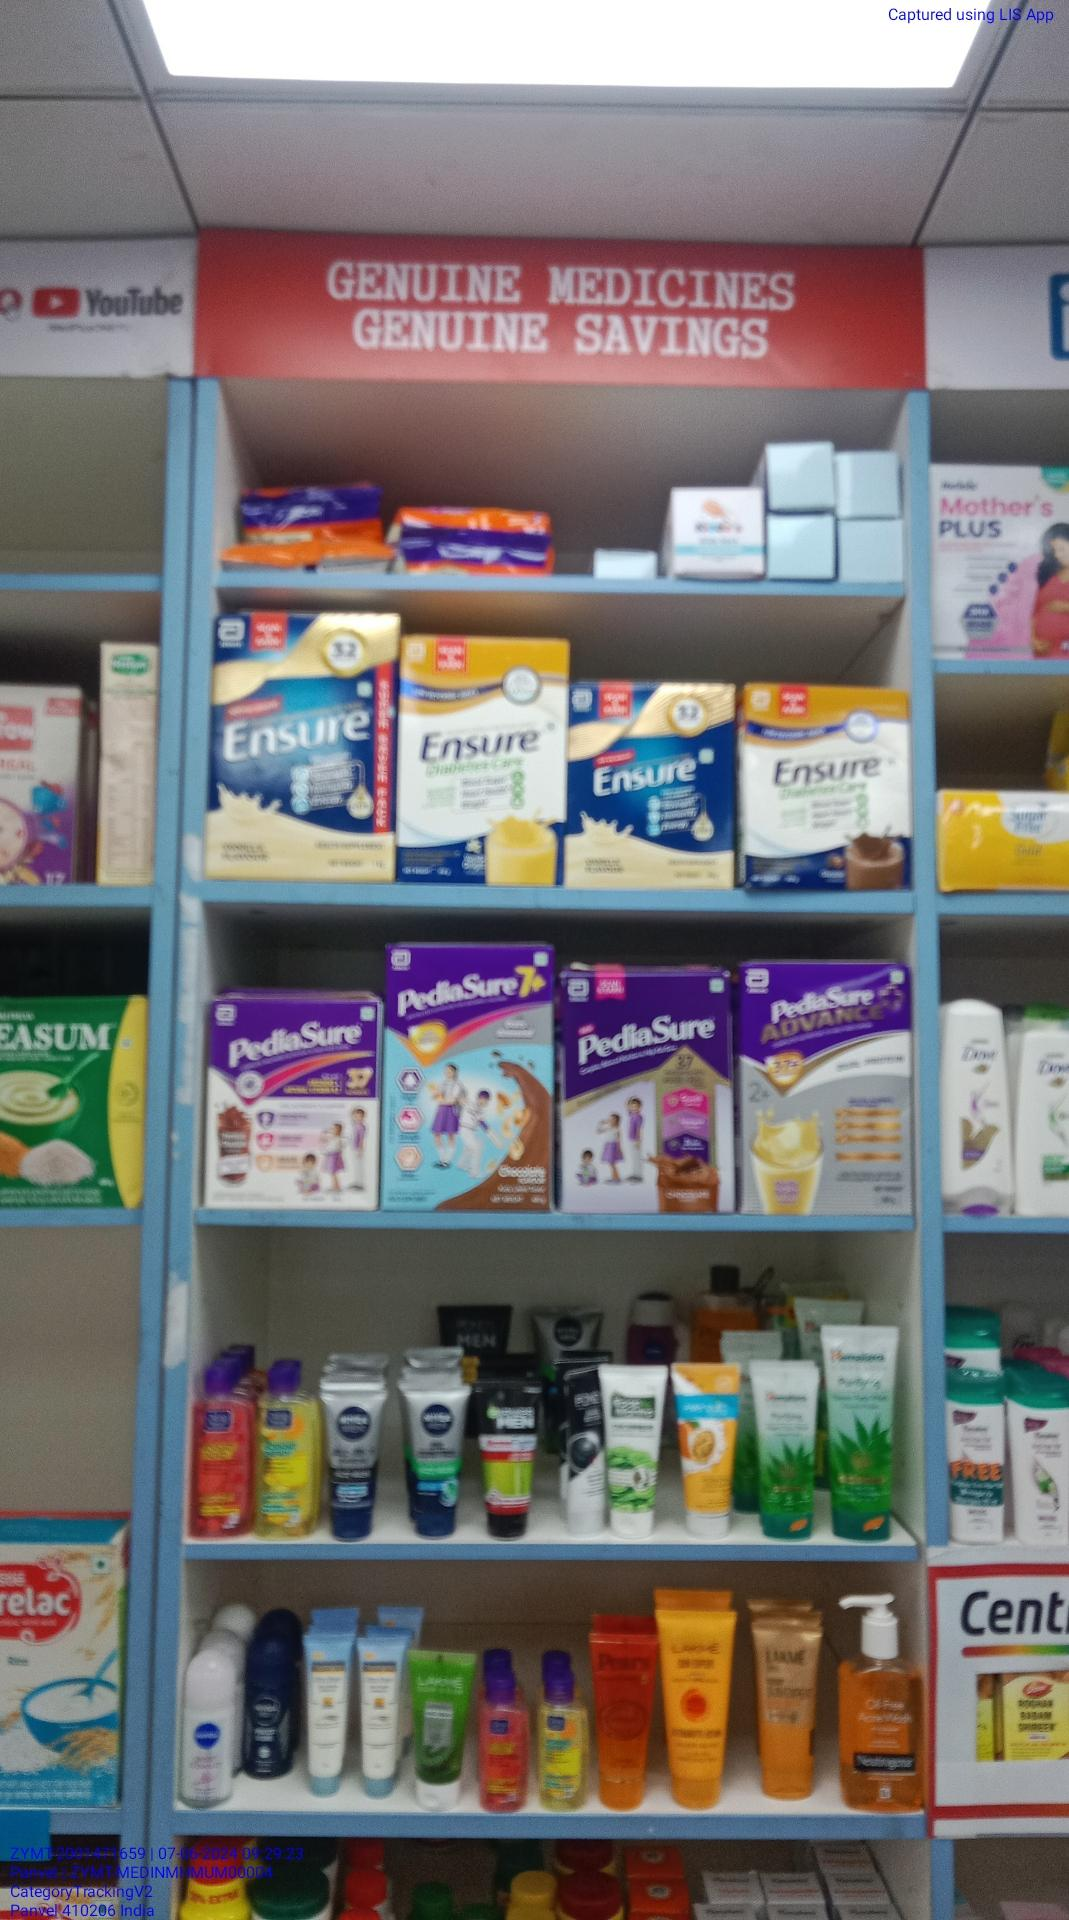ENSURE_VANILLA_400_G_PACK: (204, 613, 396, 879)
PEDIASURE_CHOCOLATE_500_G_PACK: (570, 979, 731, 1213)
